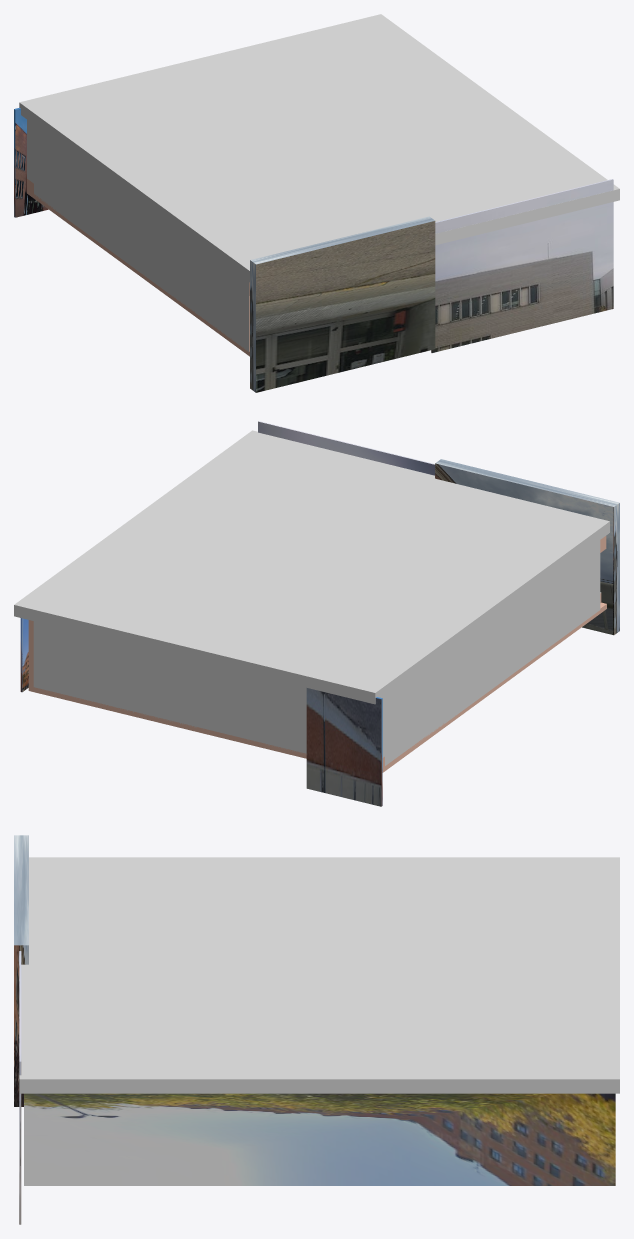
The model's file is casa.glb.
3 views of the same model, one above another, from view 1: azimuth 30°, elevation 25°; view 2: azimuth 150°, elevation 25°; view 3: azimuth 270°, elevation 25° (orthographic). The views are drawn at different scales.
Parts seen in each view (by area): view 1: Cube.008, Cube.005, Cube.006, Cube, Cube.007; view 2: Cube.008, Cube, Cube.007, Cube.005, Cube.006, Cube.004; view 3: Cube.008, Cube.004, Cube.005, Cube.006.
Boxes of the visible parts, left/top/right/bottom form: Cube.008: left=19, top=14, right=619, bottom=282; Cube.005: left=250, top=216, right=435, bottom=392; Cube.006: left=431, top=179, right=613, bottom=352; Cube: left=27, top=120, right=249, bottom=356; Cube.007: left=14, top=107, right=48, bottom=217; Cube.008: left=14, top=430, right=609, bottom=704; Cube: left=28, top=536, right=606, bottom=772; Cube.007: left=306, top=688, right=382, bottom=806; Cube.005: left=435, top=459, right=619, bottom=635; Cube.006: left=258, top=421, right=434, bottom=475; Cube.004: left=20, top=618, right=28, bottom=692; Cube.008: left=19, top=857, right=619, bottom=1093; Cube.004: left=24, top=1093, right=615, bottom=1185; Cube.005: left=14, top=835, right=28, bottom=1106; Cube.006: left=19, top=951, right=21, bottom=1224.
Size of the model in its own units: 811 by 282 by 920.
8 materials, 4 textured.
